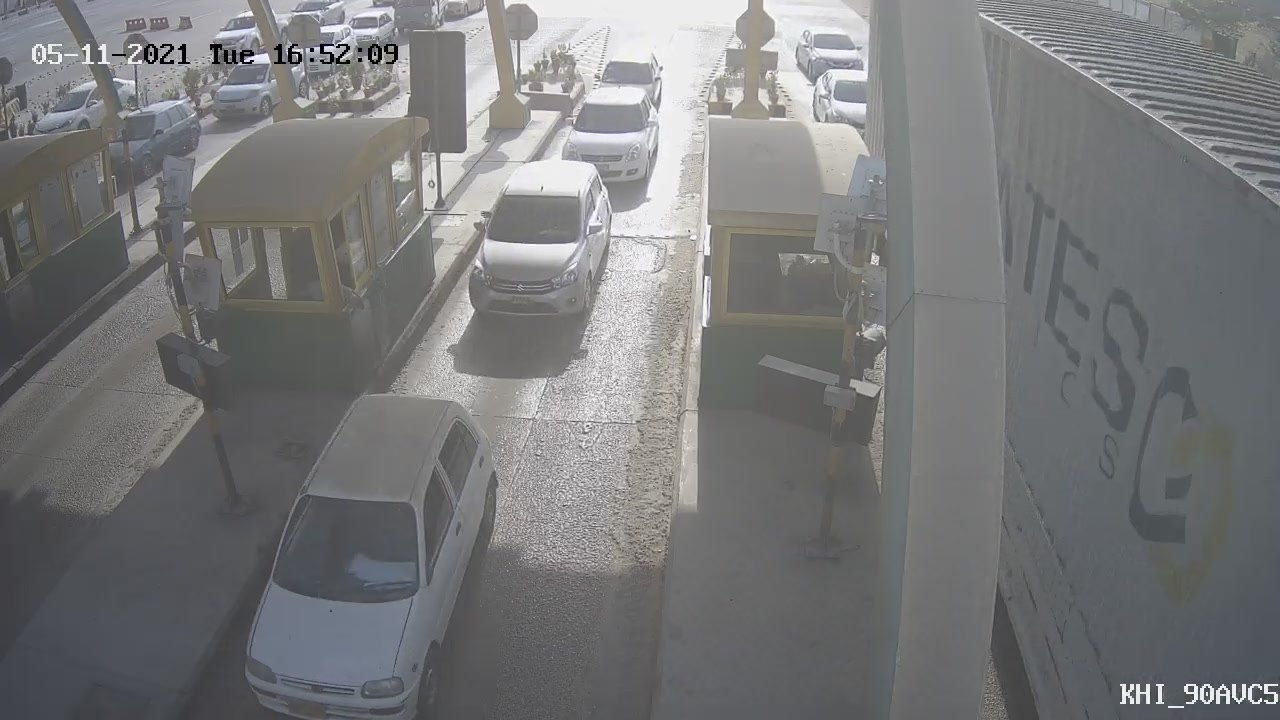F1: (451, 144, 634, 340), (548, 74, 673, 200)
